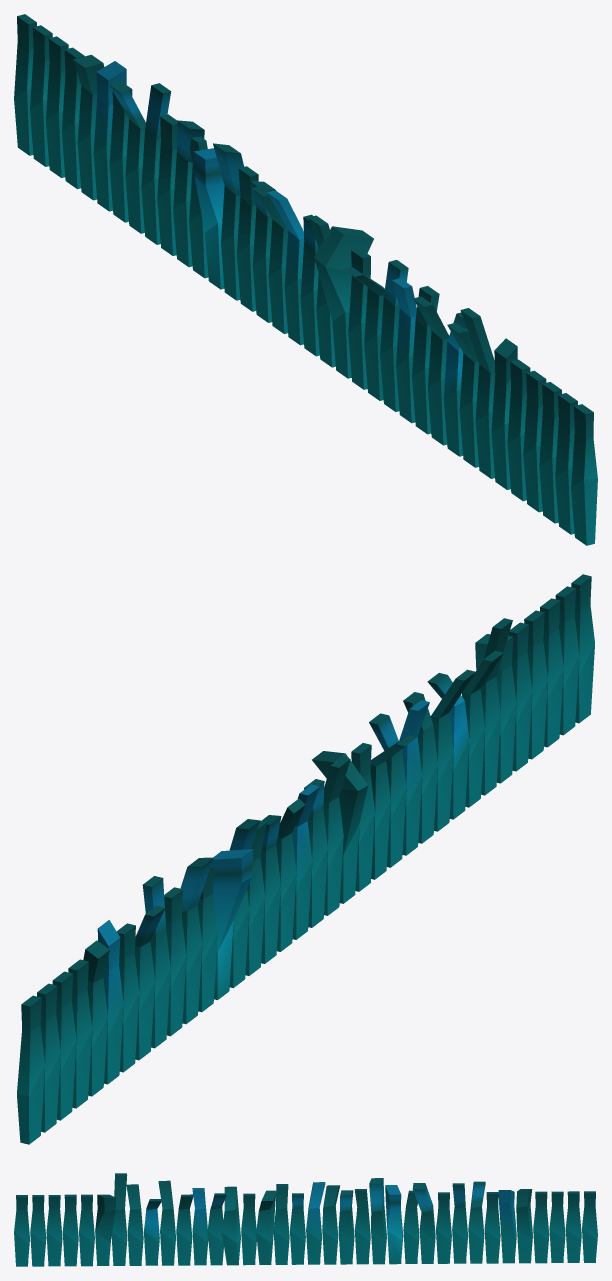
Rendered from забор .fbx.
The picture shows the model from 3 angles, top to bottom: view 1: azimuth 30°, elevation 25°; view 2: azimuth 150°, elevation 25°; view 3: azimuth 270°, elevation 25°; orthographic projection. The views are drawn at different scales.
Parts seen in each view (by area): view 1: Cube.028; view 2: Cube.028; view 3: Cube.028.
Part boxes in pixels (x1,y1,x2,y2): Cube.028: [14, 14, 597, 545]; Cube.028: [17, 574, 594, 1144]; Cube.028: [14, 1173, 597, 1266].
Size of the model in its own units: 550 by 1590 by 9711.
